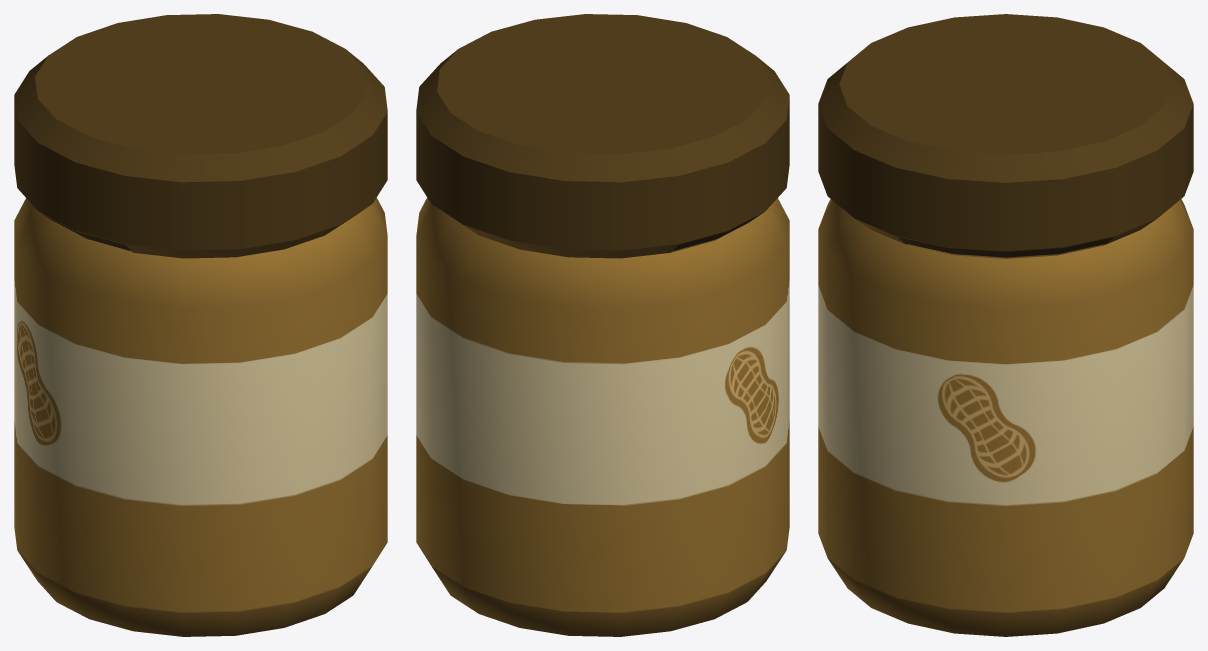
Rendered from peanutbutter.fbx.
The picture shows the model from 3 angles, left to right: view 1: azimuth 30°, elevation 25°; view 2: azimuth 150°, elevation 25°; view 3: azimuth 270°, elevation 25°; orthographic projection.
Parts seen in each view (by area): view 1: pCylinder9; view 2: pCylinder9; view 3: pCylinder9.
Part boxes in pixels (x1,y1,x2,y2): pCylinder9: [14, 14, 387, 636]; pCylinder9: [416, 14, 789, 636]; pCylinder9: [818, 14, 1193, 636].
Size of the model in its own units: 0.02 by 0.0284 by 0.02.
1 material, 1 textured.
